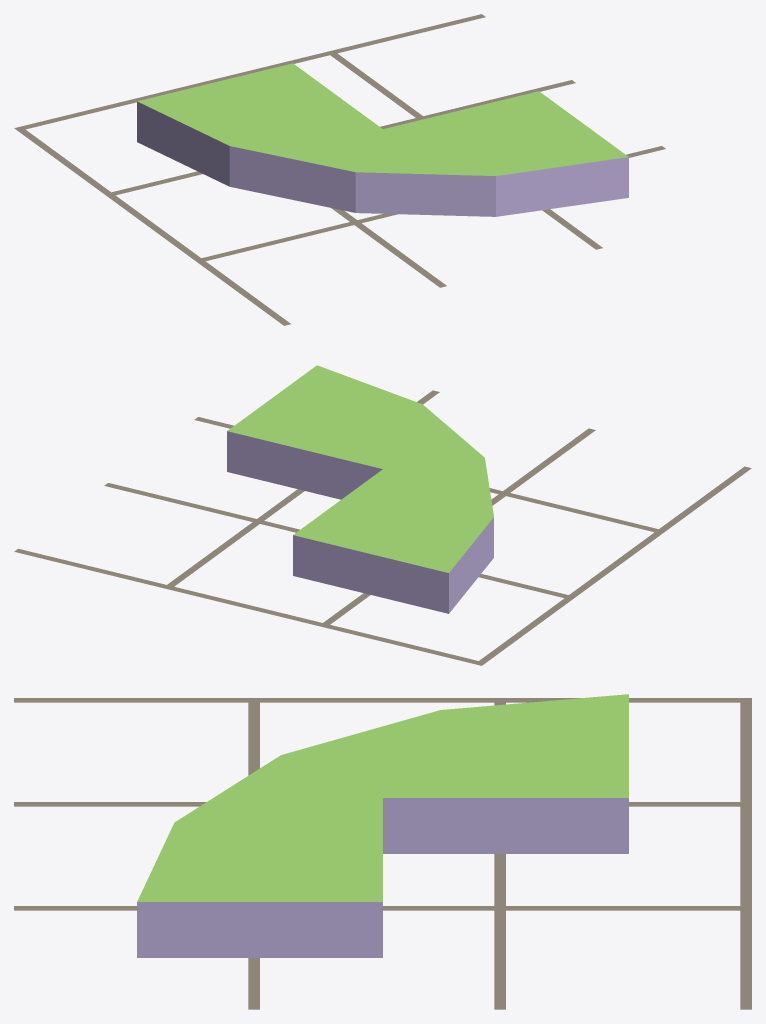
File: Tiered_Grass_Curve_Outer_2x2.glb
3 views of the same model, one above another, from view 1: azimuth 30°, elevation 25°; view 2: azimuth 150°, elevation 25°; view 3: azimuth 270°, elevation 25° (orthographic). The views are drawn at different scales.
Parts seen in each view (by area): view 1: Tiered_Grass_Curve_Outer_2x2, Floor; view 2: Tiered_Grass_Curve_Outer_2x2, Floor; view 3: Tiered_Grass_Curve_Outer_2x2, Floor.
Boxes of the visible parts, x1=… form: Tiered_Grass_Curve_Outer_2x2: x1=137, y1=63, x2=628, y2=216; Floor: x1=14, y1=14, x2=665, y2=325; Tiered_Grass_Curve_Outer_2x2: x1=227, y1=365, x2=493, y2=613; Floor: x1=14, y1=390, x2=751, y2=665; Tiered_Grass_Curve_Outer_2x2: x1=137, y1=694, x2=628, y2=957; Floor: x1=14, y1=698, x2=751, y2=1009.
Size of the model in its own units: 300 by 25 by 300.
4 materials, 1 textured.
